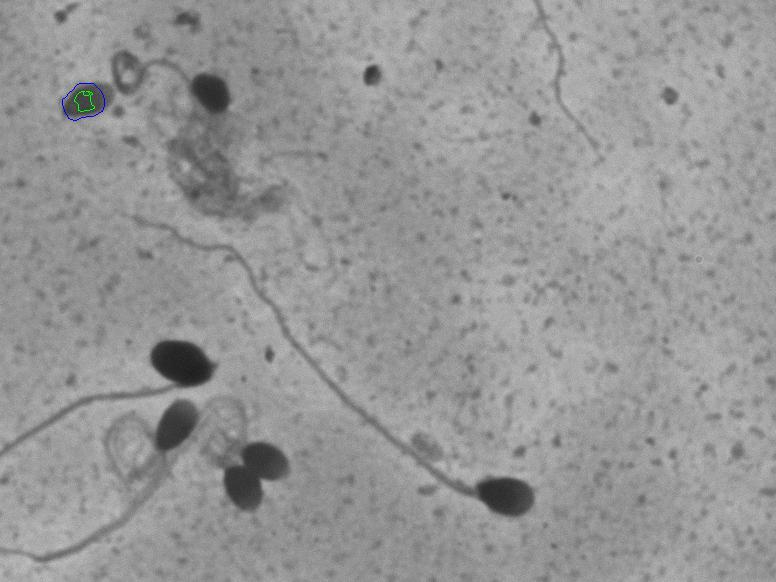Normal: (74, 184, 559, 553)
